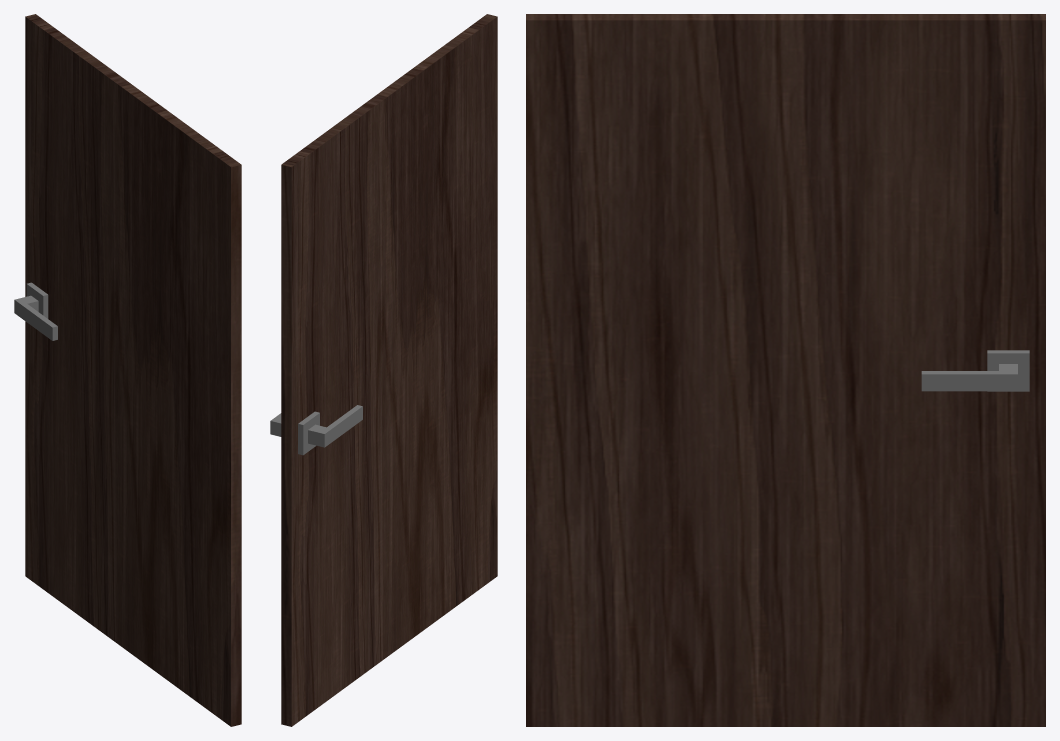
Rendered from door.fbx.
The picture shows the model from 3 angles, left to right: view 1: azimuth 30°, elevation 25°; view 2: azimuth 150°, elevation 25°; view 3: azimuth 270°, elevation 25°; orthographic projection. The views are drawn at different scales.
Visible parts, largest first — view 1: Door; view 2: Door; view 3: Door.
Part boxes in pixels (<box>): Door: <box>14,14,241,726</box>; Door: <box>270,14,497,726</box>; Door: <box>526,14,1045,726</box>.
Bounding box in the file's own units: 0.3047 × 3 × 2.
